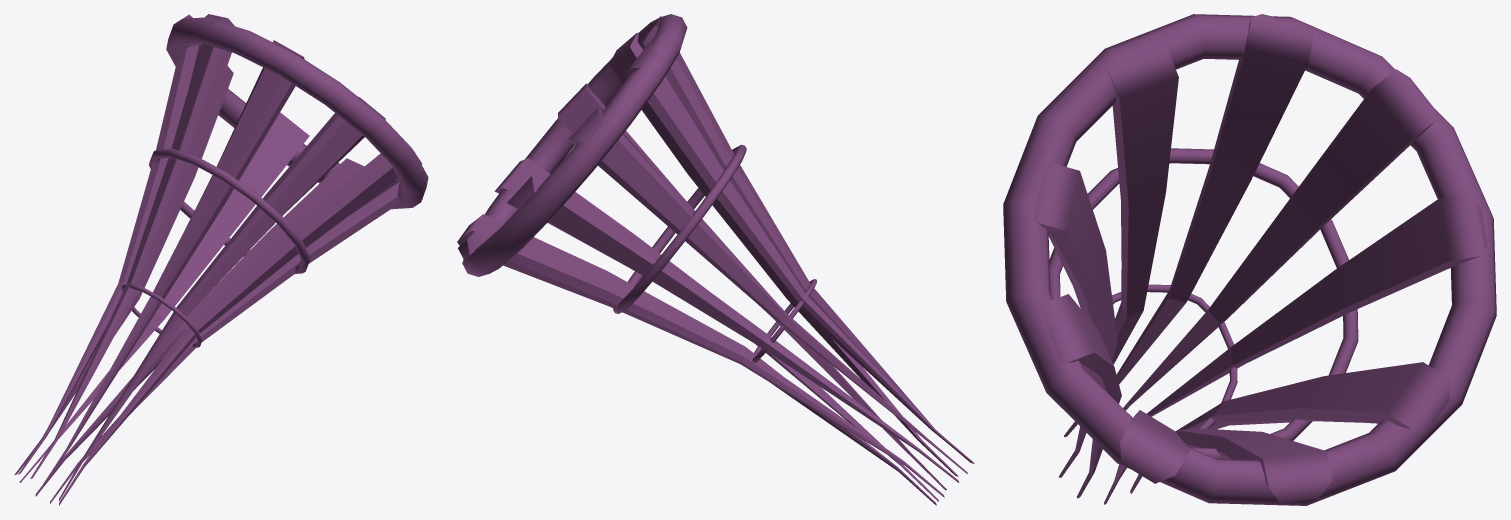
File: Fishing_Net.fbx
The picture shows the model from 3 angles, left to right: view 1: azimuth 30°, elevation 25°; view 2: azimuth 150°, elevation 25°; view 3: azimuth 270°, elevation 25°; orthographic projection. The views are drawn at different scales.
Visible parts, largest first — view 1: Fishing_Net; view 2: Fishing_Net; view 3: Fishing_Net.
Boxes of the visible parts, x1,y1,x2,y2 form: Fishing_Net: (14, 14, 428, 505); Fishing_Net: (457, 14, 974, 505); Fishing_Net: (1003, 14, 1496, 505).
Size of the model in its own units: 2.45 by 2.25 by 1.5.
